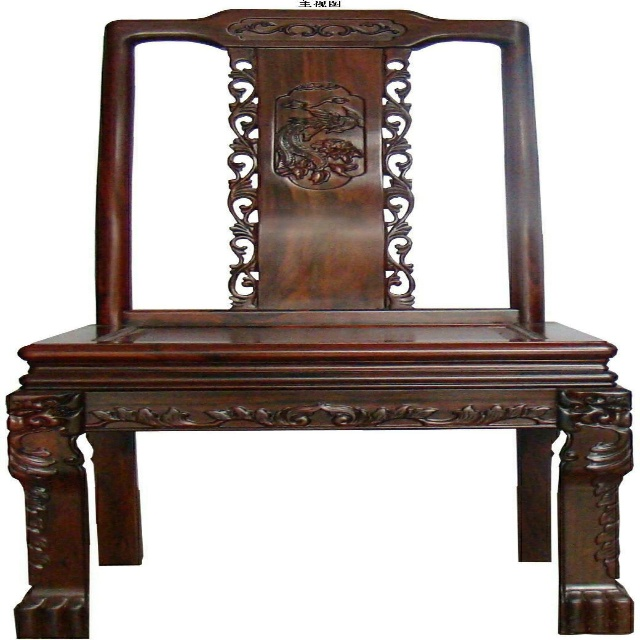obstacle: (9, 0, 631, 638)
